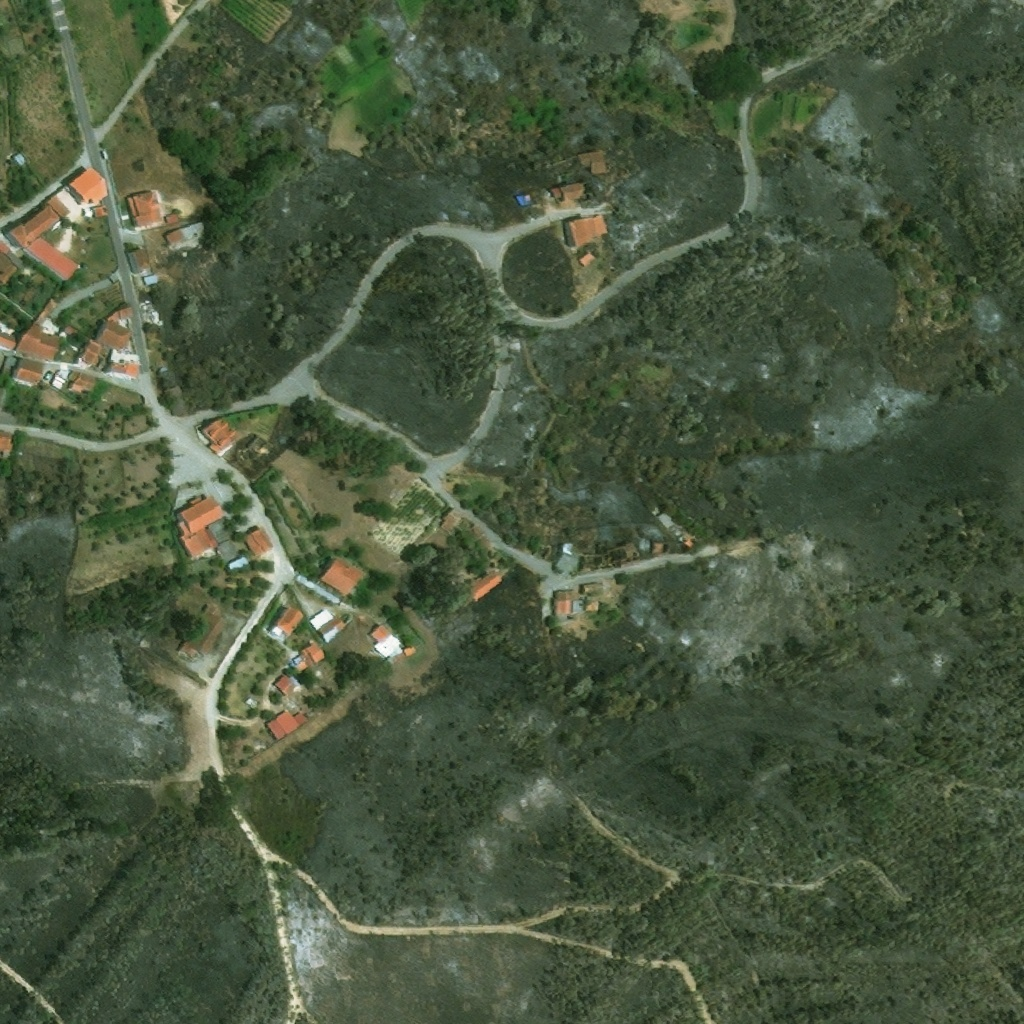0 no-damage: (173, 493, 248, 574), (4, 193, 72, 251), (23, 235, 85, 282), (176, 606, 229, 657), (317, 553, 367, 596), (198, 417, 241, 458), (17, 322, 61, 360), (562, 213, 609, 248), (164, 220, 211, 254), (306, 607, 347, 645), (51, 367, 98, 399), (266, 709, 309, 742), (125, 190, 162, 228), (366, 624, 402, 660), (549, 176, 597, 203), (96, 320, 136, 350), (65, 167, 102, 198), (549, 546, 582, 579), (106, 348, 140, 380), (240, 525, 273, 557), (272, 605, 304, 636), (75, 338, 104, 368), (13, 357, 45, 384), (271, 674, 308, 697), (437, 509, 466, 538), (577, 148, 607, 175), (649, 503, 676, 529), (0, 240, 25, 268), (125, 246, 149, 274), (550, 590, 574, 618), (0, 249, 18, 283), (165, 387, 185, 415), (105, 303, 131, 323), (304, 642, 326, 664), (577, 248, 596, 268), (290, 658, 309, 676), (0, 330, 17, 349), (143, 273, 160, 289), (680, 536, 696, 551), (12, 152, 27, 167), (0, 431, 11, 450), (165, 211, 181, 224), (91, 206, 105, 218), (579, 585, 593, 597), (63, 325, 78, 336), (582, 603, 597, 612), (402, 647, 414, 657)
1 minor-damage: (460, 568, 502, 601)
2 major-damage: (604, 543, 640, 570)
3 destroyed: (514, 185, 550, 210), (141, 300, 158, 329)
4 un-classified: (337, 477, 354, 489)
